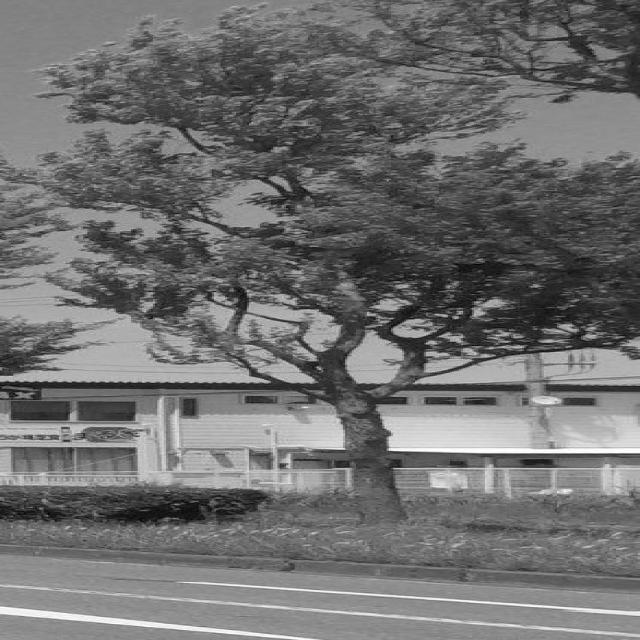maple: (0, 0, 640, 527)
